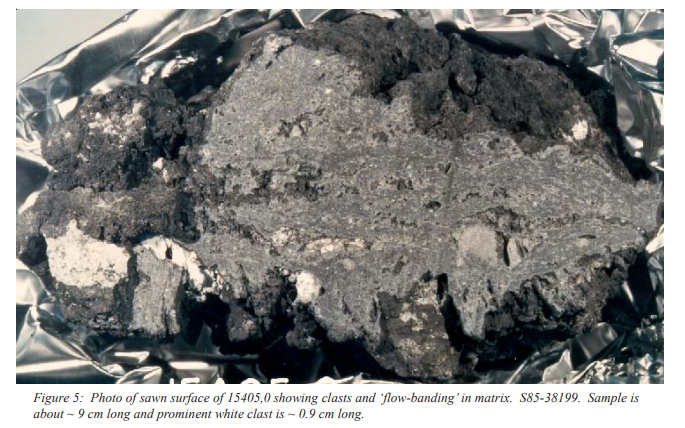Breccia: (73, 99, 623, 312)
